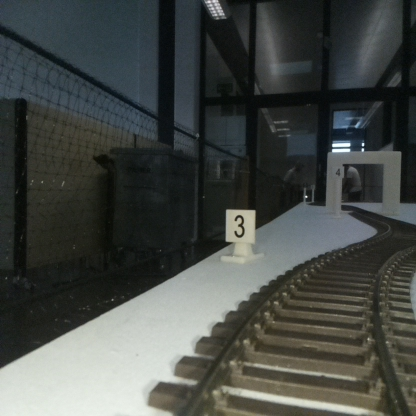white-info-4: (332, 165, 343, 218)
white-stop-3: (225, 210, 255, 263)
